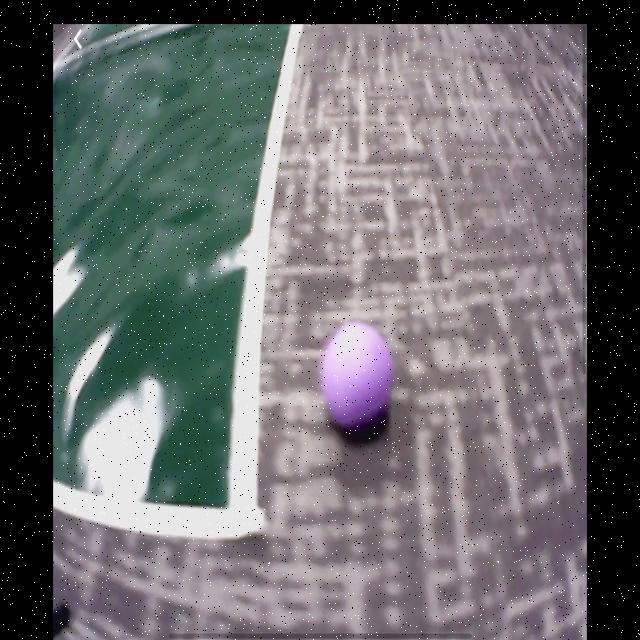ball: (325, 325, 390, 429)
